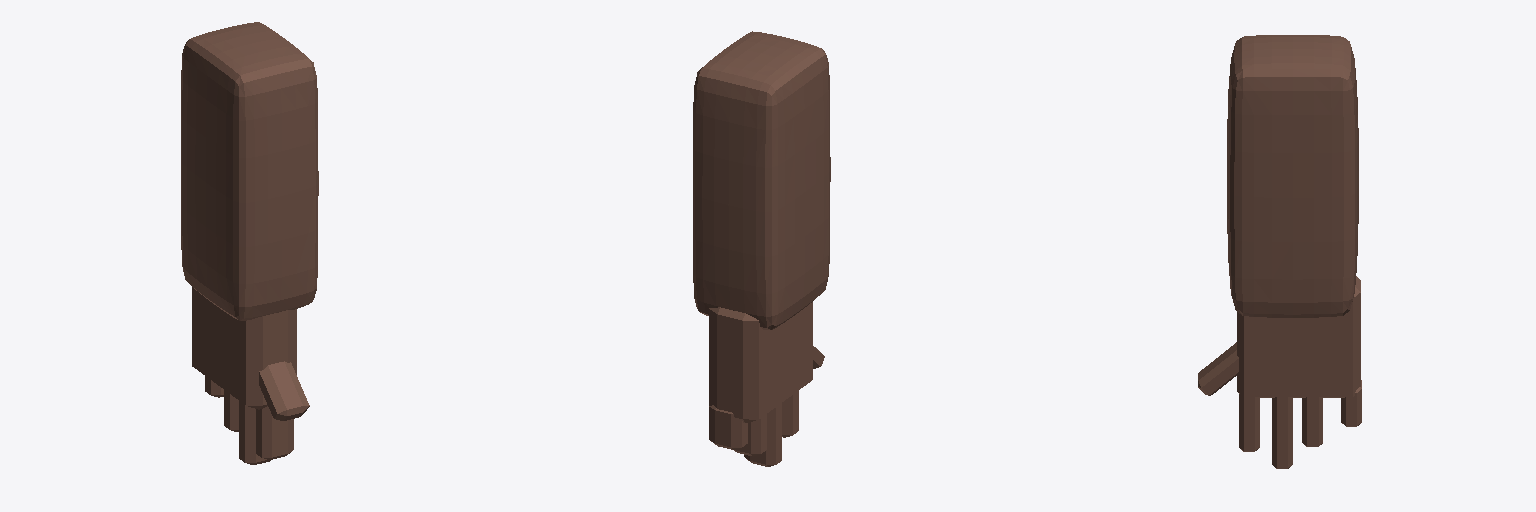
File: arm2.obj
3 renders of one model, left to right at view 1: azimuth 30°, elevation 25°; view 2: azimuth 150°, elevation 25°; view 3: azimuth 270°, elevation 25°, orthographic.
Parts seen in each view (by area): view 1: polySurface12; view 2: polySurface12; view 3: polySurface12.
Part boxes in pixels (bbox=[...]): polySurface12: bbox=[181, 22, 318, 464]; polySurface12: bbox=[693, 31, 830, 466]; polySurface12: bbox=[1198, 35, 1361, 468].
Bounding box in the file's own units: 0.6544 × 2.95 × 1.06.